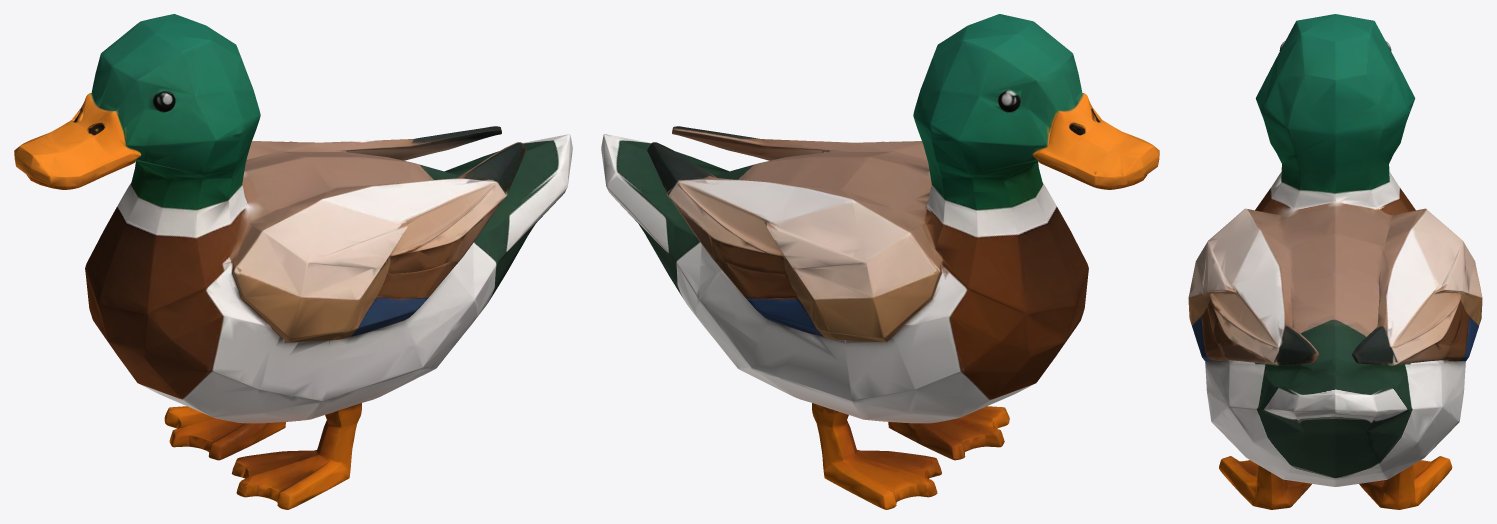
The model's file is duck.glb.
3 renders of one model, left to right at view 1: azimuth 30°, elevation 25°; view 2: azimuth 150°, elevation 25°; view 3: azimuth 270°, elevation 25°, orthographic. The views are drawn at different scales.
Parts seen in each view (by area): view 1: node_0; view 2: node_0; view 3: node_0.
Part boxes in pixels (x1,y1,x2,y2): node_0: (14, 14, 572, 509); node_0: (601, 14, 1159, 509); node_0: (1188, 14, 1482, 509).
Size of the model in its own units: 1.09 by 0.8532 by 0.537.
1 material, 1 textured.
